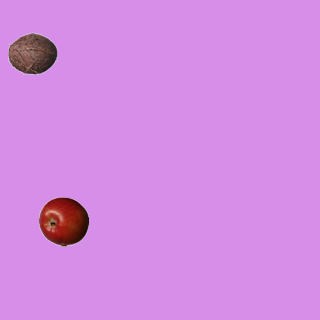Apple Braeburn: (38, 196, 88, 246)
Cocos: (7, 28, 57, 78)
